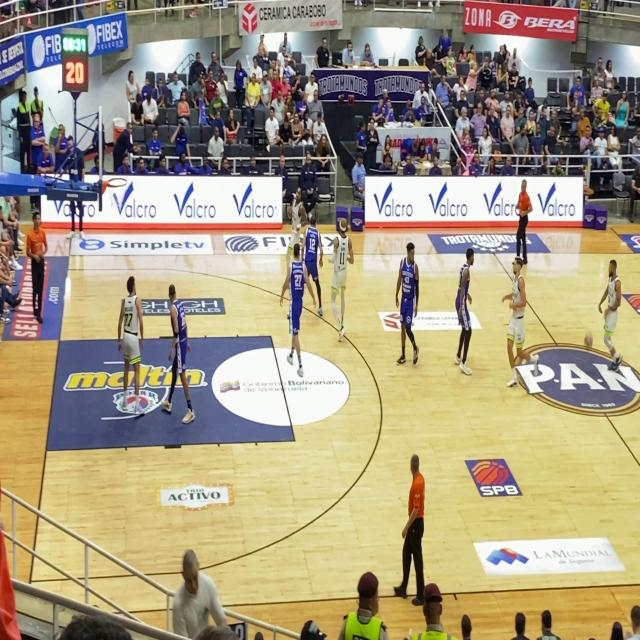Ball: (582, 329, 596, 349)
referee: (394, 431, 429, 590), (20, 195, 51, 332), (514, 170, 532, 256)
team1: (109, 271, 150, 419), (502, 252, 534, 397), (324, 210, 352, 340), (601, 253, 624, 369), (281, 184, 309, 254)
team2: (158, 280, 204, 435), (280, 235, 316, 386), (389, 238, 429, 368), (446, 240, 480, 372), (304, 200, 324, 318)
ubasket: (105, 174, 129, 196)
